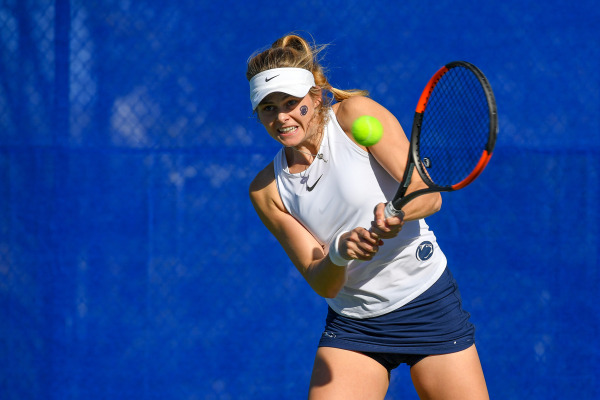tennis ball: (350, 115, 387, 149)
tennis player: (219, 34, 494, 400)
